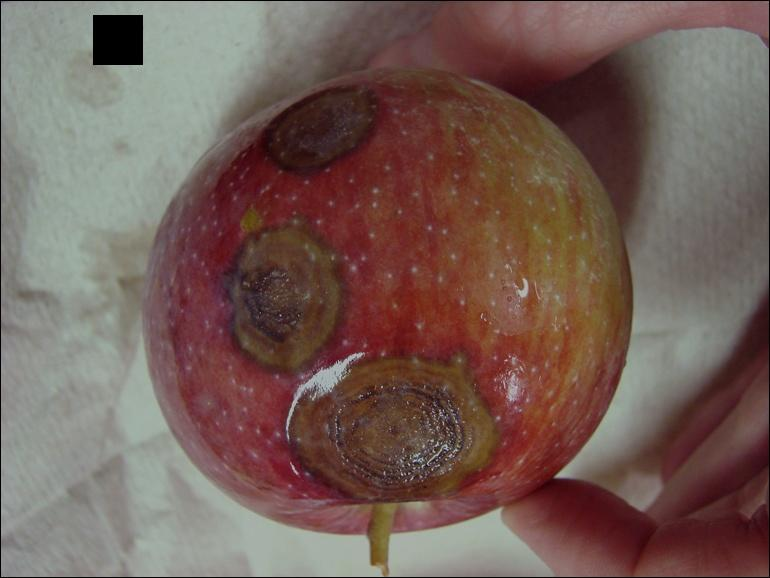rotten apple: (145, 72, 637, 539)
